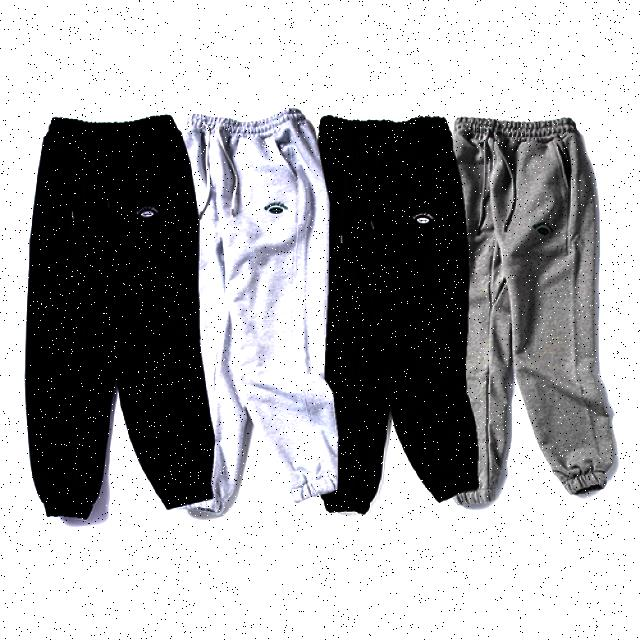Blouse_deep: (25, 118, 220, 513), (314, 118, 479, 513), (181, 114, 339, 500), (457, 122, 616, 503)
